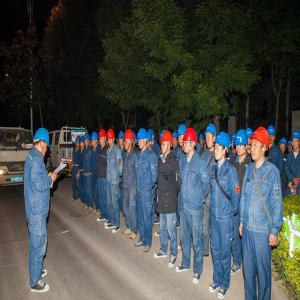blue: (34, 128, 51, 158), (215, 135, 230, 163), (234, 130, 249, 158), (206, 124, 217, 150), (138, 129, 149, 151), (178, 124, 187, 146), (292, 131, 300, 154), (268, 125, 276, 146), (91, 132, 99, 149), (279, 138, 287, 154), (247, 128, 253, 149), (147, 133, 153, 150), (119, 131, 125, 147), (173, 133, 179, 149), (84, 134, 90, 148), (76, 135, 81, 149), (80, 136, 85, 150), (199, 134, 205, 145)
red: (251, 128, 270, 161), (184, 129, 199, 155), (161, 132, 174, 155), (124, 129, 135, 153), (98, 128, 108, 148), (108, 129, 117, 147)
